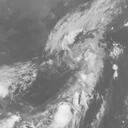cyclone: (49, 43, 102, 98)
